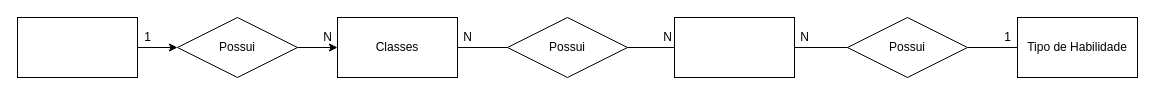
Some shapes in this 1155 by 95 pixel diagram are drawn without their labels. Each missing label, with the centre of its shape:
Habilidades: the point at 734,47
Personagens: the point at 77,47
